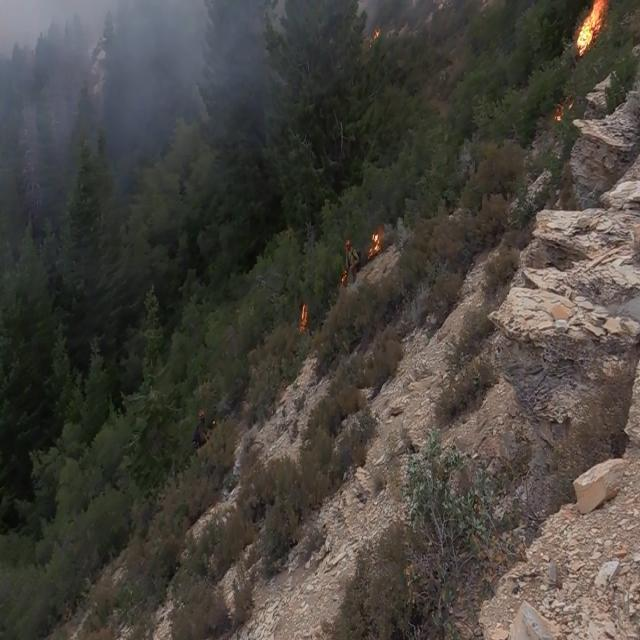Fire: (562, 0, 609, 52)
